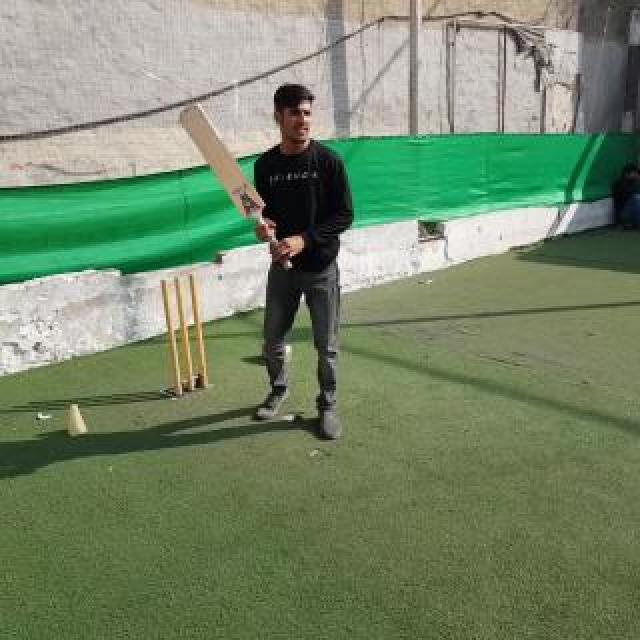bat: (180, 104, 294, 270)
